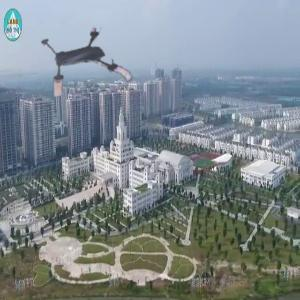drone: (41, 21, 126, 106)
